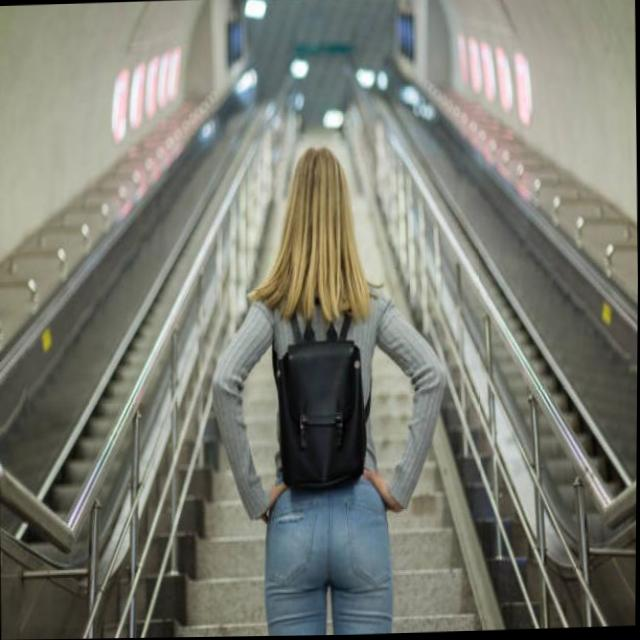no helmet: (281, 143, 358, 275)
